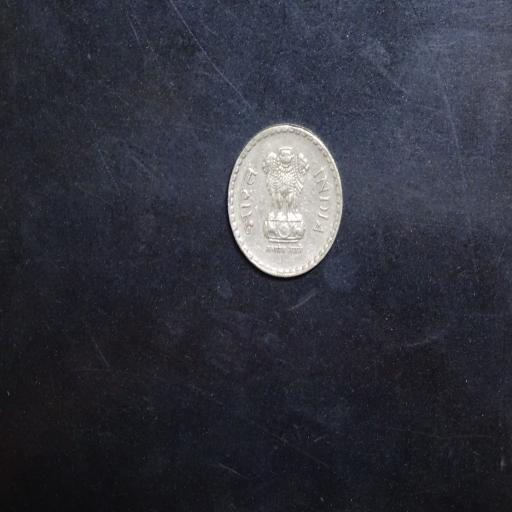rupee5: (226, 124, 342, 277)
